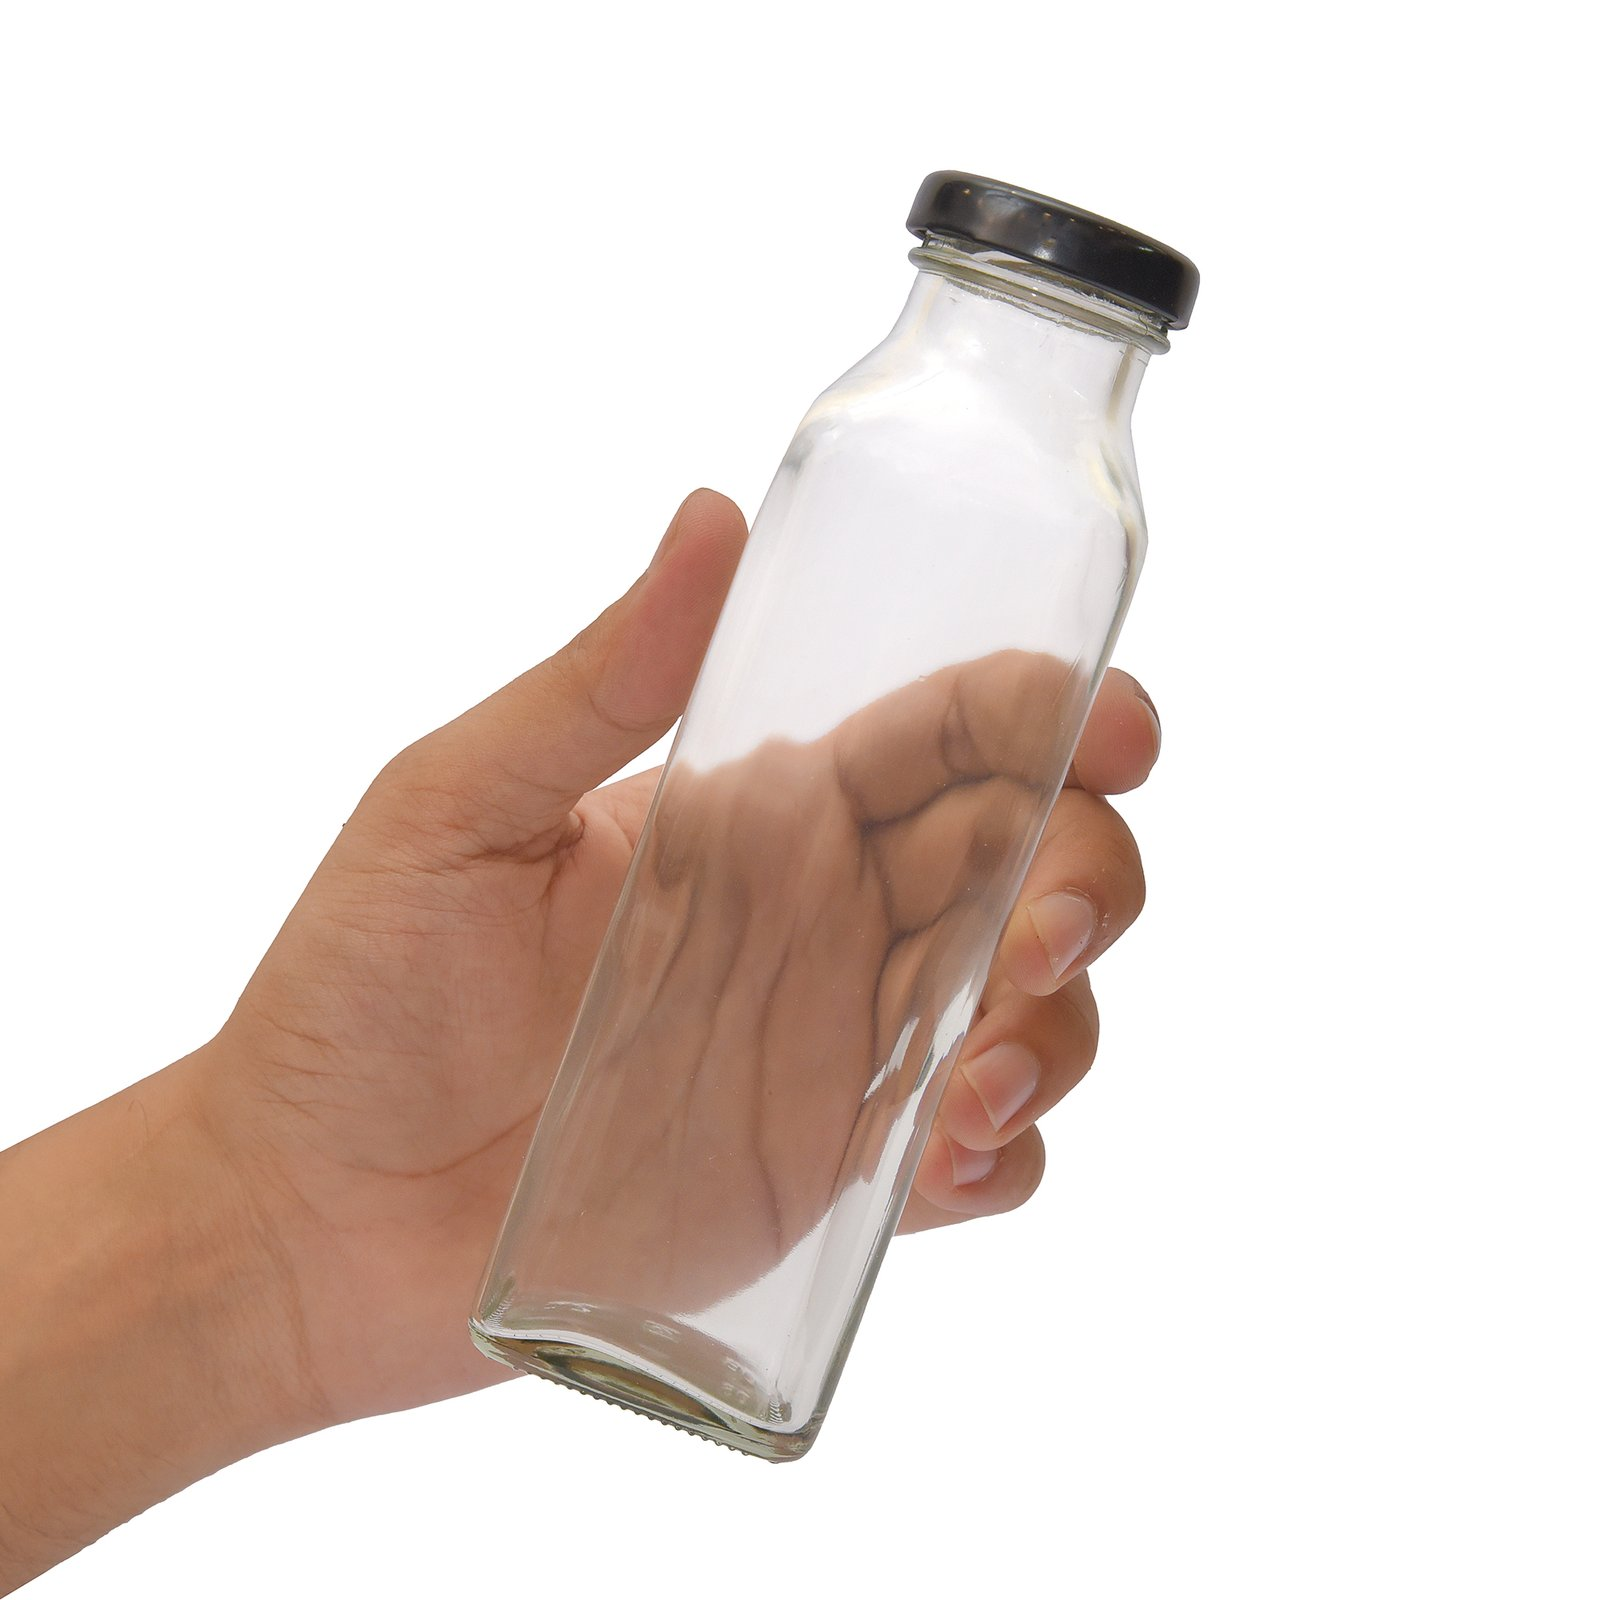glass_bottle: (450, 152, 1204, 1495)
